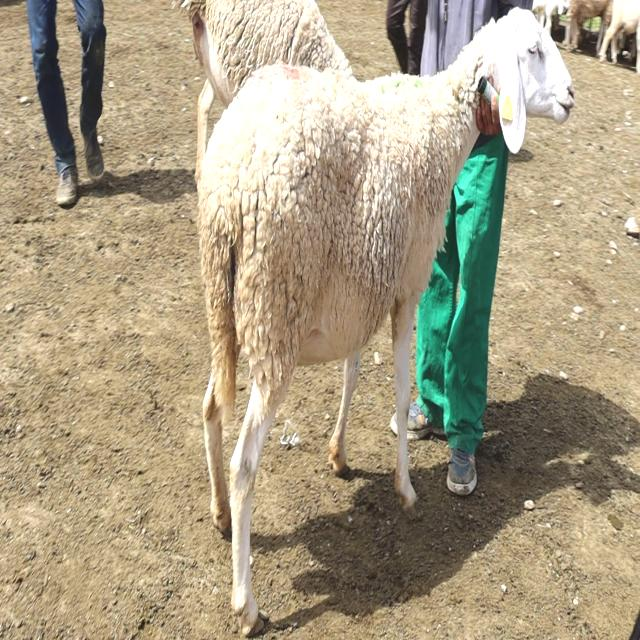Score_3: (197, 9, 574, 635)
